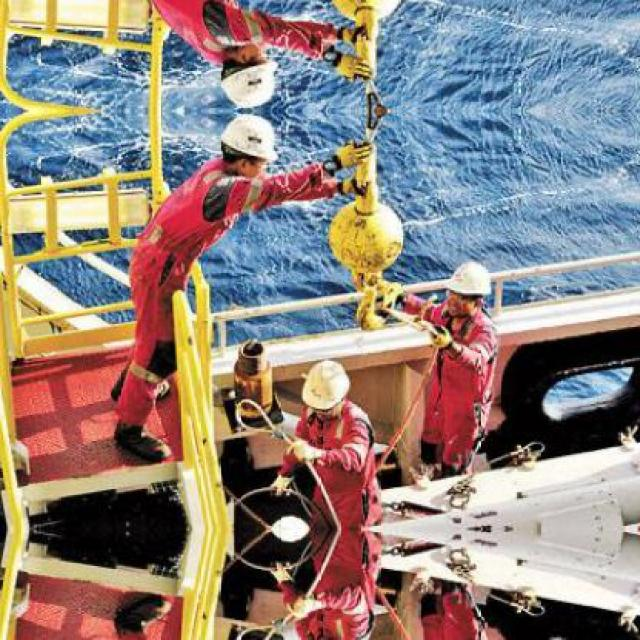Reflective-Jacket: (278, 405, 384, 526)
Safety-Helmet: (211, 58, 284, 108), (295, 355, 357, 413), (217, 112, 281, 164), (442, 256, 496, 301)
